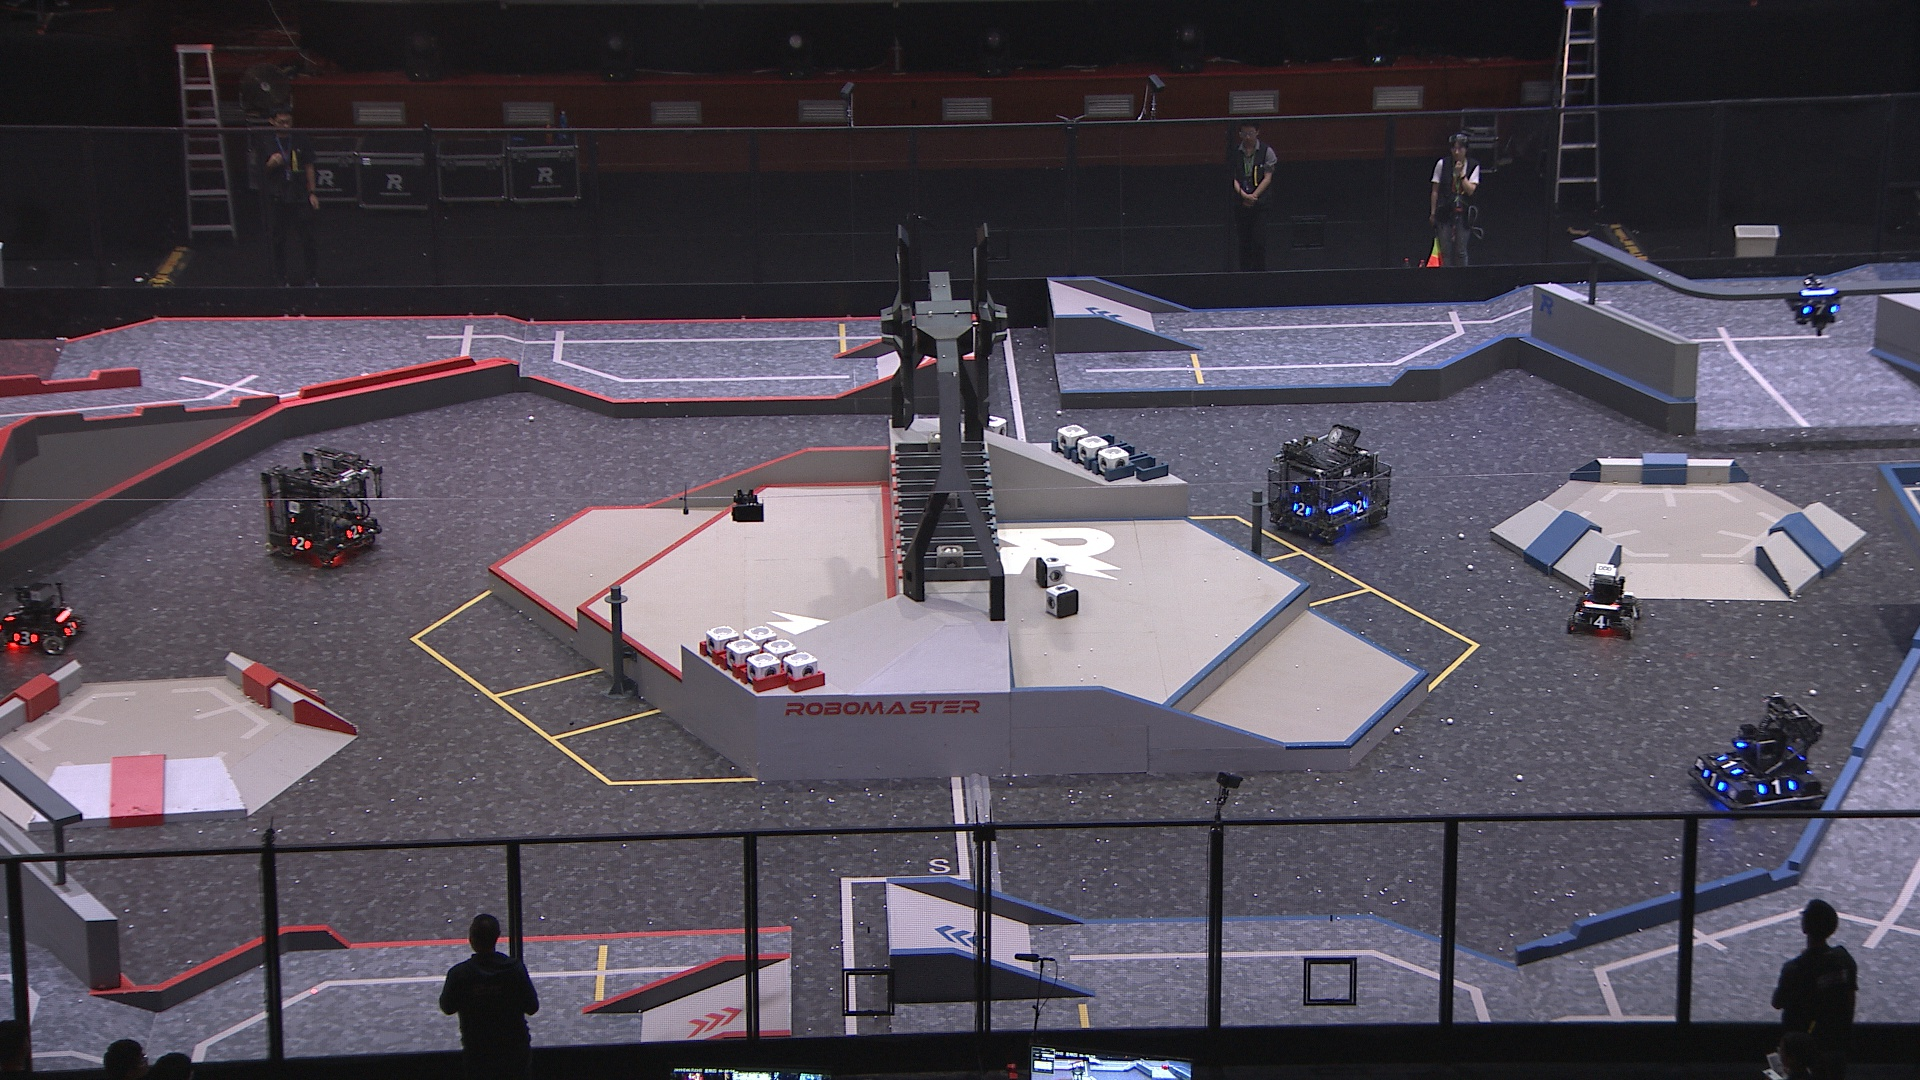armor: (1756, 779, 1797, 798), (1700, 766, 1727, 793), (1718, 754, 1743, 775), (1588, 613, 1614, 632), (1803, 305, 1841, 316), (287, 534, 310, 553), (342, 524, 365, 541), (1291, 501, 1315, 518), (12, 632, 40, 646), (3, 608, 24, 624), (1346, 498, 1367, 514), (63, 618, 79, 638), (1629, 605, 1642, 618)
car: (258, 444, 392, 572), (1689, 692, 1826, 814), (1265, 419, 1396, 545), (1565, 564, 1648, 640)
watcher: (1785, 272, 1844, 338)
